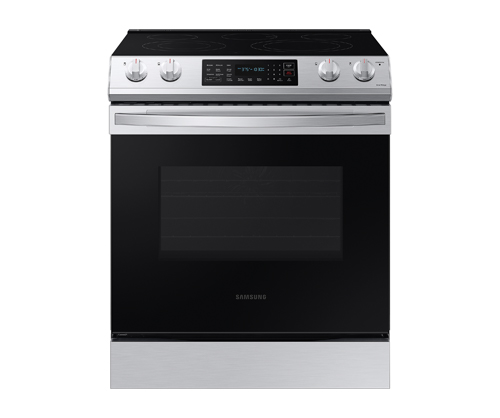stove: (91, 24, 404, 407)
